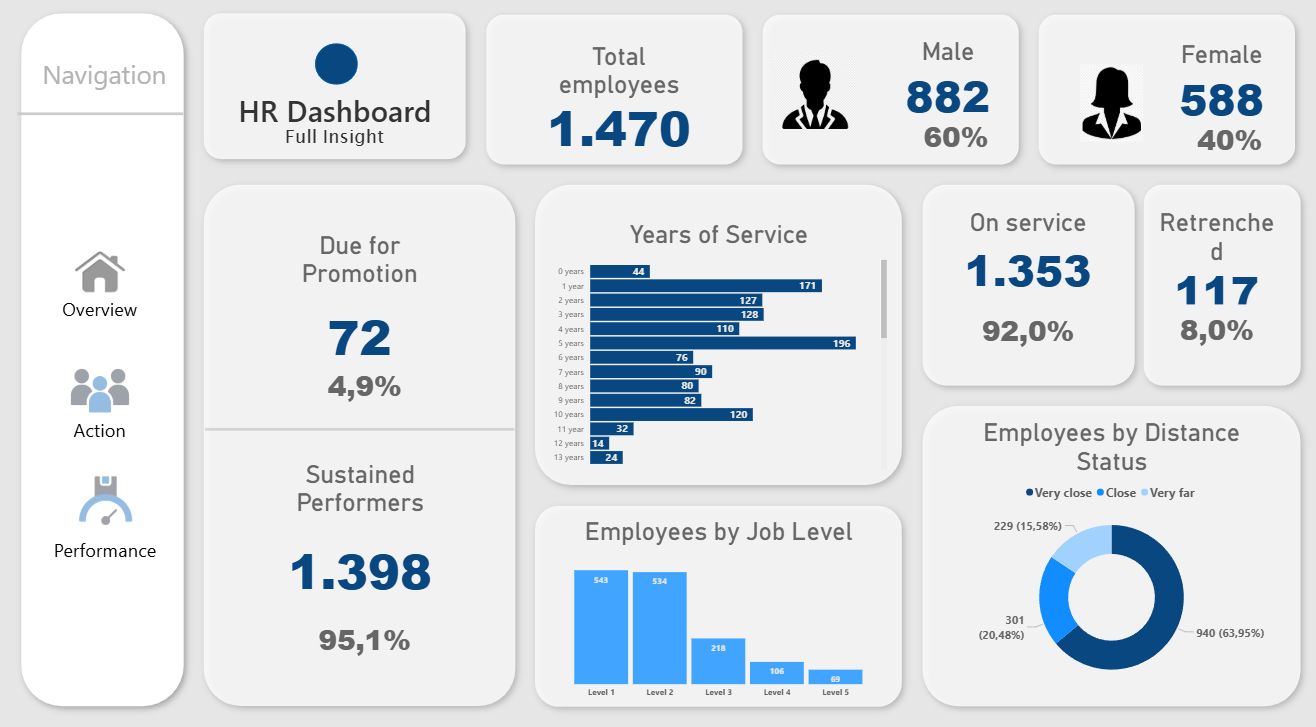

The dashboard page shown, as its layout file describes it:
{"tool":"powerbi","page":{"name":"Overview","canvas":[1920,1080],"ordinal":0},"visuals":[{"type":"shape","box":[24,24,264,1032],"z":0},{"type":"shape","box":[288,24,408,240],"z":1000},{"type":"shape","box":[696.7,25.3,399.9,246.1],"z":2000},{"type":"shape","box":[1096.7,25.3,399.9,246.1],"z":3000},{"type":"shape","box":[1496.6,25.3,399.9,246.1],"z":4000},{"type":"shape","box":[288,272,480,784],"z":5000},{"type":"shape","box":[768,272,560,464],"z":6000},{"type":"shape","box":[768,736,560,320],"z":7000},{"type":"shape","box":[1328,592,576,464],"z":8000},{"type":"shape","box":[1328,272,336,320],"z":9000},{"type":"shape","box":[1648,272,240,320],"z":10000},{"type":"textbox","box":[320,144,344,72],"z":11000},{"type":"textbox","box":[384,192,216,72],"z":12000},{"type":"shape","box":[464,81,62,60],"z":13000},{"type":"card","title":"Total employees","fields":{"Values":["All measures.Total emp"]},"box":[768,80,288,144],"z":14000},{"type":"card","title":"Male","fields":{"Values":["All measures.Male"]},"box":[1296,72,168,120],"z":15000},{"type":"card","title":"Male","fields":{"Values":["All measures.% male"]},"box":[1320,168,144,96],"z":16000},{"type":"card","title":"Female","fields":{"Values":["All measures.Female"]},"box":[1691.9,76.7,168,120],"z":17000},{"type":"card","title":"Male","fields":{"Values":["All measures.% female"]},"box":[1715.9,172.7,144,96],"z":18000},{"type":"image","box":[1104,96,168,120],"z":19000},{"type":"image","box":[1552,112,128,112],"z":20000},{"type":"card","title":"Due for Promotion","fields":{"Values":["All measures.Due for promotion"]},"box":[400,352,256,208],"z":21000},{"type":"card","title":"Male","fields":{"Values":["All measures.% Due for promotion"]},"box":[464,544,144,64],"z":22000},{"type":"card","title":"Sustained Performers","fields":{"Values":["All measures.Not due"]},"box":[393.6,684.8,272,224],"z":23000},{"type":"card","title":"Male","fields":{"Values":["All measures.% Not due"]},"box":[464,912,144,64],"z":24000},{"type":"shape","box":[304,624,448,32],"z":25000},{"type":"barChart","title":"Years of Service","fields":{"Category":["HR Analytics Data.Service Year"],"Y":["All measures.Total emp"]},"box":[800,336,496,368],"z":26000},{"type":"columnChart","title":"Employees by Job Level","fields":{"Category":["HR Analytics Data.Job levels"],"Y":["All measures.Total emp"]},"box":[800,768,496,272],"z":27000},{"type":"card","title":"On service","fields":{"Values":["All measures.On service"]},"box":[1392,320,208,128],"z":28000},{"type":"card","title":"Male","fields":{"Values":["All measures.% On service"]},"box":[1392,448,208,96],"z":29000},{"type":"card","title":"Retrenched ","fields":{"Values":["All measures.Will be retrenched"]},"box":[1664,320,208,144],"z":30000},{"type":"card","title":"Male","fields":{"Values":["All measures.% retrenched"]},"box":[1664,464,208,64],"z":31000},{"type":"donutChart","title":"Employees by Distance Status","fields":{"Category":["HR Analytics Data.Distance status"],"Y":["All measures.Total emp"]},"box":[1344,624,544,400],"z":32000},{"type":"shape","box":[32,176,240,16],"z":33000},{"type":"textbox","box":[64,96,208,64],"z":34000},{"type":"image","box":[112,336,80,144],"z":35000},{"type":"image","box":[96,528,112,112],"z":36000},{"type":"image","box":[112,688,96,112],"z":37000},{"type":"actionButton","box":[80,352,144,144],"z":38000},{"type":"actionButton","title":"Action","box":[80,528,144,144],"z":39000},{"type":"actionButton","title":"Action","box":[64,688,192,160],"z":40000}]}

Visuals, with their boxes in screenshot pixels (x1, y1, x2, y2), scaled from the page's 1920x1080 canvas onto the 1316x727 screenshot:
shape: [x1=16, y1=16, x2=197, y2=711]
shape: [x1=197, y1=16, x2=477, y2=178]
shape: [x1=478, y1=17, x2=752, y2=183]
shape: [x1=752, y1=17, x2=1026, y2=183]
shape: [x1=1026, y1=17, x2=1300, y2=183]
shape: [x1=197, y1=183, x2=526, y2=711]
shape: [x1=526, y1=183, x2=910, y2=495]
shape: [x1=526, y1=495, x2=910, y2=711]
shape: [x1=910, y1=399, x2=1305, y2=711]
shape: [x1=910, y1=183, x2=1141, y2=399]
shape: [x1=1130, y1=183, x2=1294, y2=399]
textbox: [x1=219, y1=97, x2=455, y2=145]
textbox: [x1=263, y1=129, x2=411, y2=178]
shape: [x1=318, y1=55, x2=361, y2=95]
"Total employees" card: [x1=526, y1=54, x2=724, y2=151]
"Male" card: [x1=888, y1=48, x2=1003, y2=129]
"Male" card: [x1=905, y1=113, x2=1003, y2=178]
"Female" card: [x1=1160, y1=52, x2=1275, y2=132]
"Male" card: [x1=1176, y1=116, x2=1275, y2=181]
image: [x1=757, y1=65, x2=872, y2=145]
image: [x1=1064, y1=75, x2=1152, y2=151]
"Due for Promotion" card: [x1=274, y1=237, x2=450, y2=377]
"Male" card: [x1=318, y1=366, x2=417, y2=409]
"Sustained Performers" card: [x1=270, y1=461, x2=456, y2=612]
"Male" card: [x1=318, y1=614, x2=417, y2=657]
shape: [x1=208, y1=420, x2=515, y2=442]
"Years of Service" barChart: [x1=548, y1=226, x2=888, y2=474]
"Employees by Job Level" columnChart: [x1=548, y1=517, x2=888, y2=700]
"On service" card: [x1=954, y1=215, x2=1097, y2=302]
"Male" card: [x1=954, y1=302, x2=1097, y2=366]
"Retrenched " card: [x1=1141, y1=215, x2=1283, y2=312]
"Male" card: [x1=1141, y1=312, x2=1283, y2=355]
"Employees by Distance Status" donutChart: [x1=921, y1=420, x2=1294, y2=689]
shape: [x1=22, y1=118, x2=186, y2=129]
textbox: [x1=44, y1=65, x2=186, y2=108]
image: [x1=77, y1=226, x2=132, y2=323]
image: [x1=66, y1=355, x2=143, y2=431]
image: [x1=77, y1=463, x2=143, y2=539]
actionButton: [x1=55, y1=237, x2=154, y2=334]
"Action" actionButton: [x1=55, y1=355, x2=154, y2=452]
"Action" actionButton: [x1=44, y1=463, x2=175, y2=571]
